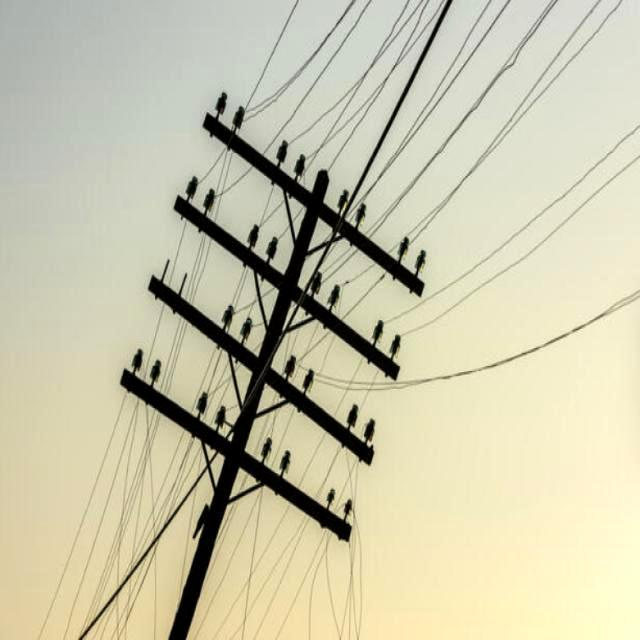Broken Pole: (113, 59, 413, 640)
